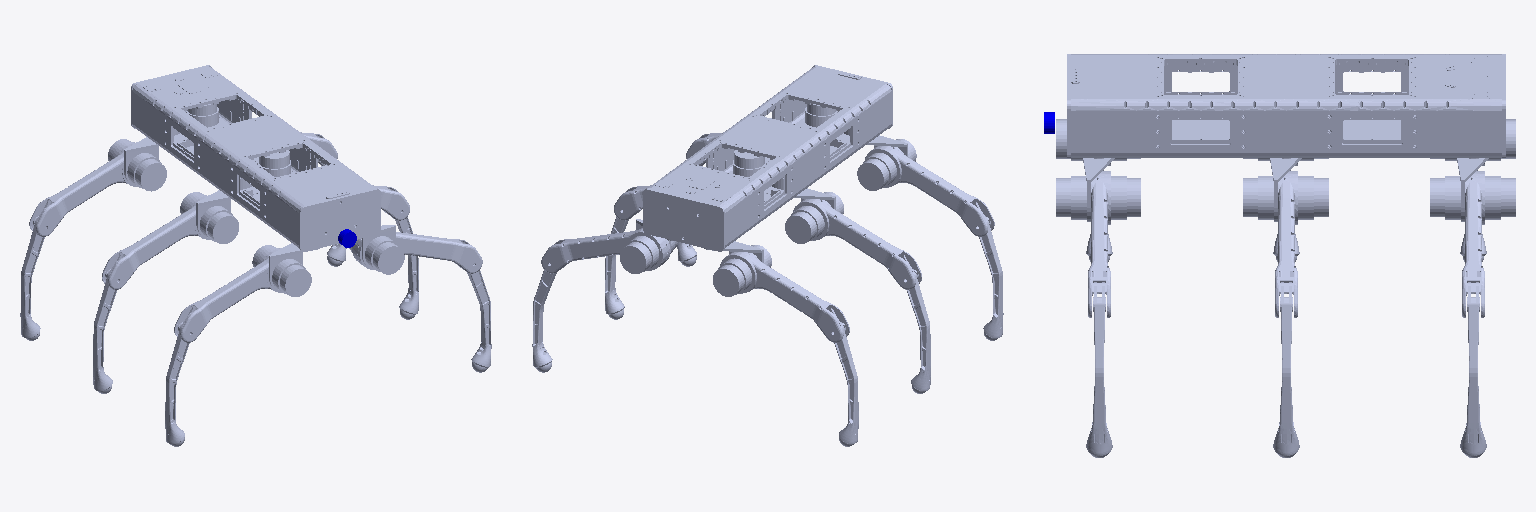
--- Facts derived from the render (not from the file) ---
The picture shows the robot from 3 angles, left to right: view 1: azimuth 30°, elevation 25°; view 2: azimuth 150°, elevation 25°; view 3: azimuth 270°, elevation 25°; orthographic projection.
Robot: robot_liuzu — 20 links, 19 joints (18 revolute, 1 fixed); root link base_link; default pose: all joints at 0.
Links seen in each view (by area): view 1: base_link, rf_link2, rb_link2, rm_link2, lf_link2, rm_link1, rb_link1, rf_link1, lf_link1, rm_link3, rf_link3, rb_link3 (+4 smaller); view 2: base_link, rf_link2, rm_link2, rb_link2, lb_link2, rm_link3, rb_link3, rf_link3, lb_link_3, lm_link3, lm_link2, lm_link1 (+1 smaller); view 3: base_link, lb_link2, lm_link2, lf_link2, lb_link_3, lm_link3, lf_link3, lb_link1, lm_link1, lf_link1.
Boxes of the visible links, x1,y1,x2,y2 form: base_link: (131,65,380,251); rf_link2: (174,245,282,342); rb_link2: (29,139,137,236); rm_link2: (102,192,209,289); lf_link2: (349,232,482,273); rm_link1: (196,160,252,243); rb_link1: (124,129,179,191); rf_link1: (269,243,319,296); lf_link1: (357,225,404,274); rm_link3: (93,261,118,393); rf_link3: (165,313,191,446); rb_link3: (20,208,46,340); base_link: (643,65,892,251); rf_link2: (857,146,994,236); rm_link2: (785,199,921,289); rb_link2: (713,252,849,342); lb_link2: (541,228,670,273); rm_link3: (905,261,930,393); rb_link3: (832,313,858,446); rf_link3: (977,208,1003,340); lb_link_3: (532,263,556,372); lm_link3: (605,210,628,319); lm_link2: (614,185,651,220); lm_link1: (733,150,766,176); base_link: (1067,54,1505,157); lb_link2: (1462,171,1515,317); lm_link2: (1275,171,1328,317); lf_link2: (1088,171,1140,317); lb_link_3: (1460,282,1486,457); lm_link3: (1273,282,1299,457); lf_link3: (1086,282,1112,457); lb_link1: (1430,158,1488,221); lm_link1: (1243,158,1301,221); lf_link1: (1056,158,1114,221).
Bounding box of the posed robot: 0.8736 × 0.8564 × 0.5732 m (x, y, z).
19 mesh visuals loaded from 19 distinct referenced files (19 binary STL).

URDF robot description (robot_liuzu):
<?xml version="1.0" encoding="utf-8"?>
<!-- This URDF was automatically created by SolidWorks to URDF Exporter! Originally created by Stephen Brawner ([email redacted]) 
     Commit Version: 1.6.0-4-g7f85cfe  Build Version: 1.6.7995.38578
     For more information, please see http://wiki.ros.org/sw_urdf_exporter -->
<robot
  name="robot_liuzu">
  <link
    name="base_link">
    <inertial>
      <origin
        xyz="1.4611E-06 0.00013754 0.051189"
        rpy="0 0 0" />
      <mass
        value="17.206" />
      <inertia
        ixx="1.1941"
        ixy="0.003952"
        ixz="9.5899E-05"
        iyy="1.1576"
        iyz="0.078153"
        izz="0.21746" />
    </inertial>
    <visual>
      <origin
        xyz="0 0 0"
        rpy="0 0 0" />
      <geometry>
        <mesh
          filename="package://robot_liuzu/meshes/base_link.STL" />
      </geometry>
      <material
        name="">
        <color
          rgba="0.79216 0.81961 0.93333 1" />
      </material>
    </visual>
    <collision>
      <origin
        xyz="0 0 0"
        rpy="0 0 0" />
      <geometry>
        <mesh
          filename="package://robot_liuzu/meshes/base_link.STL" />
      </geometry>
    </collision>
  </link>
  <link
    name="lb_link1">
    <inertial>
      <origin
        xyz="-0.038541 0.022331 -0.054879"
        rpy="0 0 0" />
      <mass
        value="2.478" />
      <inertia
        ixx="0.017127"
        ixy="-0.004201"
        ixz="0.009585"
        iyy="0.021963"
        iyz="-0.0056509"
        izz="0.011444" />
    </inertial>
    <visual>
      <origin
        xyz="0 0 0"
        rpy="0 0 0" />
      <geometry>
        <mesh
          filename="package://robot_liuzu/meshes/lb_link1.STL" />
      </geometry>
      <material
        name="">
        <color
          rgba="0.79216 0.81961 0.93333 1" />
      </material>
    </visual>
    <collision>
      <origin
        xyz="0 0 0"
        rpy="0 0 0" />
      <geometry>
        <mesh
          filename="package://robot_liuzu/meshes/lb_link1.STL" />
      </geometry>
    </collision>
  </link>
  <joint
    name="body_lb"
    type="revolute">
    <origin
      xyz="0.0499999999999999 0.34 -0.021"
      rpy="0 0 0" />
    <parent
      link="base_link" />
    <child
      link="lb_link1" />
    <axis
      xyz="0 0 -1" />
    <limit
      lower="-1.57"
      upper="1.57"
      effort="0"
      velocity="0" />
  </joint>
  <link
    name="lb_link2">
    <inertial>
      <origin
        xyz="0.033669 -0.033086 -0.002815"
        rpy="0 0 0" />
      <mass
        value="1.658" />
      <inertia
        ixx="0.0034925"
        ixy="-1.7485E-05"
        ixz="-0.000732"
        iyy="0.013323"
        iyz="2.067E-06"
        izz="0.015288" />
    </inertial>
    <visual>
      <origin
        xyz="0 0 0"
        rpy="0 0 0" />
      <geometry>
        <mesh
          filename="package://robot_liuzu/meshes/lb_link2.STL" />
      </geometry>
      <material
        name="">
        <color
          rgba="0.79216 0.81961 0.93333 1" />
      </material>
    </visual>
    <collision>
      <origin
        xyz="0 0 0"
        rpy="0 0 0" />
      <geometry>
        <mesh
          filename="package://robot_liuzu/meshes/lb_link2.STL" />
      </geometry>
    </collision>
  </link>
  <joint
    name="thigh_lb"
    type="revolute">
    <origin
      xyz="0.075728 0.0068868 -0.05"
      rpy="0 0 0" />
    <parent
      link="lb_link1" />
    <child
      link="lb_link2" />
    <axis
      xyz="0 -1 0" />
    <limit
      lower="-1.57"
      upper="1.57"
      effort="0"
      velocity="0" />
  </joint>
  <link
    name="lb_link_3">
    <inertial>
      <origin
        xyz="-0.15658 0 -0.011782"
        rpy="0 0 0" />
      <mass
        value="0.331" />
      <inertia
        ixx="0.00011902"
        ixy="5E-09"
        ixz="0.00064146"
        iyy="0.011147"
        iyz="1E-09"
        izz="0.011069" />
    </inertial>
    <visual>
      <origin
        xyz="0 0 0"
        rpy="0 0 0" />
      <geometry>
        <mesh
          filename="package://robot_liuzu/meshes/lb_link_3.STL" />
      </geometry>
      <material
        name="">
        <color
          rgba="0.79216 0.81961 0.93333 1" />
      </material>
    </visual>
    <collision>
      <origin
        xyz="0 0 0"
        rpy="0 0 0" />
      <geometry>
        <mesh
          filename="package://robot_liuzu/meshes/lb_link_3.STL" />
      </geometry>
    </collision>
  </link>
  <joint
    name="shank_lb"
    type="revolute">
    <origin
      xyz="0.25869 -0.0068868 -0.094056"
      rpy="0 0 0" />
    <parent
      link="lb_link2" />
    <child
      link="lb_link_3" />
    <axis
      xyz="0 -1 0" />
    <limit
      lower="-1.57"
      upper="1.57"
      effort="0"
      velocity="0" />
  </joint>
  <link
    name="lm_link1">
    <inertial>
      <origin
        xyz="-0.038541 0.022331 -0.054879"
        rpy="0 0 0" />
      <mass
        value="2.478" />
      <inertia
        ixx="0.017127"
        ixy="-0.004201"
        ixz="0.009585"
        iyy="0.021963"
        iyz="-0.0056509"
        izz="0.011444" />
    </inertial>
    <visual>
      <origin
        xyz="0 0 0"
        rpy="0 0 0" />
      <geometry>
        <mesh
          filename="package://robot_liuzu/meshes/lm_link1.STL" />
      </geometry>
      <material
        name="">
        <color
          rgba="0.79216 0.81961 0.93333 1" />
      </material>
    </visual>
    <collision>
      <origin
        xyz="0 0 0"
        rpy="0 0 0" />
      <geometry>
        <mesh
          filename="package://robot_liuzu/meshes/lm_link1.STL" />
      </geometry>
    </collision>
  </link>
  <joint
    name="body_lm"
    type="revolute">
    <origin
      xyz="0.0499999999999999 0 -0.021"
      rpy="0 0 0" />
    <parent
      link="base_link" />
    <child
      link="lm_link1" />
    <axis
      xyz="0 0 -1" />
    <limit
      lower="-1.57"
      upper="1.57"
      effort="0"
      velocity="0" />
  </joint>
  <link
    name="lm_link2">
    <inertial>
      <origin
        xyz="0.033669 -0.033086 -0.002815"
        rpy="0 0 0" />
      <mass
        value="1.658" />
      <inertia
        ixx="0.0034925"
        ixy="-1.7485E-05"
        ixz="-0.000732"
        iyy="0.013323"
        iyz="2.067E-06"
        izz="0.015288" />
    </inertial>
    <visual>
      <origin
        xyz="0 0 0"
        rpy="0 0 0" />
      <geometry>
        <mesh
          filename="package://robot_liuzu/meshes/lm_link2.STL" />
      </geometry>
      <material
        name="">
        <color
          rgba="0.79216 0.81961 0.93333 1" />
      </material>
    </visual>
    <collision>
      <origin
        xyz="0 0 0"
        rpy="0 0 0" />
      <geometry>
        <mesh
          filename="package://robot_liuzu/meshes/lm_link2.STL" />
      </geometry>
    </collision>
  </link>
  <joint
    name="thigh_lm"
    type="revolute">
    <origin
      xyz="0.076 0 -0.05"
      rpy="0 0 0" />
    <parent
      link="lm_link1" />
    <child
      link="lm_link2" />
    <axis
      xyz="0 -1 0" />
    <limit
      lower="-1.57"
      upper="1.57"
      effort="0"
      velocity="0" />
  </joint>
  <link
    name="lm_link3">
    <inertial>
      <origin
        xyz="-0.15658 0 -0.011782"
        rpy="0 0 0" />
      <mass
        value="0.331" />
      <inertia
        ixx="0.00011902"
        ixy="5E-09"
        ixz="0.00064146"
        iyy="0.011147"
        iyz="1E-09"
        izz="0.011069" />
    </inertial>
    <visual>
      <origin
        xyz="0 0 0"
        rpy="0 0 0" />
      <geometry>
        <mesh
          filename="package://robot_liuzu/meshes/lm_link3.STL" />
      </geometry>
      <material
        name="">
        <color
          rgba="0.79216 0.81961 0.93333 1" />
      </material>
    </visual>
    <collision>
      <origin
        xyz="0 0 0"
        rpy="0 0 0" />
      <geometry>
        <mesh
          filename="package://robot_liuzu/meshes/lm_link3.STL" />
      </geometry>
    </collision>
  </link>
  <joint
    name="shank_lm"
    type="revolute">
    <origin
      xyz="0.258415470716125 0 -0.094055539414559"
      rpy="0 0 0" />
    <parent
      link="lm_link2" />
    <child
      link="lm_link3" />
    <axis
      xyz="0 -1 0" />
    <limit
      lower="-1.57"
      upper="1.57"
      effort="0"
      velocity="0" />
  </joint>
  <link
    name="lf_link1">
    <inertial>
      <origin
        xyz="-0.038541 0.022331 -0.054879"
        rpy="0 0 0" />
      <mass
        value="2.478" />
      <inertia
        ixx="0.017127"
        ixy="-0.004201"
        ixz="0.009585"
        iyy="0.021963"
        iyz="-0.0056509"
        izz="0.011444" />
    </inertial>
    <visual>
      <origin
        xyz="0 0 0"
        rpy="0 0 0" />
      <geometry>
        <mesh
          filename="package://robot_liuzu/meshes/lf_link1.STL" />
      </geometry>
      <material
        name="">
        <color
          rgba="0.79216 0.81961 0.93333 1" />
      </material>
    </visual>
    <collision>
      <origin
        xyz="0 0 0"
        rpy="0 0 0" />
      <geometry>
        <mesh
          filename="package://robot_liuzu/meshes/lf_link1.STL" />
      </geometry>
    </collision>
  </link>
  <joint
    name="body_lf"
    type="revolute">
    <origin
      xyz="0.05 -0.34 -0.021"
      rpy="0 0 0" />
    <parent
      link="base_link" />
    <child
      link="lf_link1" />
    <axis
      xyz="0 0 -1" />
    <limit
      lower="-1.57"
      upper="1.57"
      effort="0"
      velocity="0" />
  </joint>
  <link
    name="lf_link2">
    <inertial>
      <origin
        xyz="0.033669 -0.033086 -0.002815"
        rpy="0 0 0" />
      <mass
        value="1.658" />
      <inertia
        ixx="0.0034925"
        ixy="-1.7485E-05"
        ixz="-0.000732"
        iyy="0.013323"
        iyz="2.067E-06"
        izz="0.015288" />
    </inertial>
    <visual>
      <origin
        xyz="0 0 0"
        rpy="0 0 0" />
      <geometry>
        <mesh
          filename="package://robot_liuzu/meshes/lf_link2.STL" />
      </geometry>
      <material
        name="">
        <color
          rgba="0.79216 0.81961 0.93333 1" />
      </material>
    </visual>
    <collision>
      <origin
        xyz="0 0 0"
        rpy="0 0 0" />
      <geometry>
        <mesh
          filename="package://robot_liuzu/meshes/lf_link2.STL" />
      </geometry>
    </collision>
  </link>
  <joint
    name="thigh_lf"
    type="revolute">
    <origin
      xyz="0.076 0 -0.05"
      rpy="0 0 0" />
    <parent
      link="lf_link1" />
    <child
      link="lf_link2" />
    <axis
      xyz="0 -1 0" />
    <limit
      lower="-1.57"
      upper="1.57"
      effort="0"
      velocity="0" />
  </joint>
  <link
    name="lf_link3">
    <inertial>
      <origin
        xyz="-0.15658 0 -0.011782"
        rpy="0 0 0" />
      <mass
        value="0.331" />
      <inertia
        ixx="0.00011902"
        ixy="5E-09"
        ixz="0.00064146"
        iyy="0.011147"
        iyz="1E-09"
        izz="0.011069" />
    </inertial>
    <visual>
      <origin
        xyz="0 0 0"
        rpy="0 0 0" />
      <geometry>
        <mesh
          filename="package://robot_liuzu/meshes/lf_link3.STL" />
      </geometry>
      <material
        name="">
        <color
          rgba="0.79216 0.81961 0.93333 1" />
      </material>
    </visual>
    <collision>
      <origin
        xyz="0 0 0"
        rpy="0 0 0" />
      <geometry>
        <mesh
          filename="package://robot_liuzu/meshes/lf_link3.STL" />
      </geometry>
    </collision>
  </link>
  <joint
    name="shank_lf"
    type="revolute">
    <origin
      xyz="0.258415470716125 0 -0.094055539414559"
      rpy="0 0 0" />
    <parent
      link="lf_link2" />
    <child
      link="lf_link3" />
    <axis
      xyz="0 -1 0" />
    <limit
      lower="-1.57"
      upper="1.57"
      effort="0"
      velocity="0" />
  </joint>
  <link
    name="rf_link1">
    <inertial>
      <origin
        xyz="0.022331 -0.038541 -0.054879"
        rpy="0 0 0" />
      <mass
        value="2.478" />
      <inertia
        ixx="0.021963"
        ixy="-0.0042012"
        ixz="-0.005651"
        iyy="0.017127"
        iyz="0.009585"
        izz="0.011444" />
    </inertial>
    <visual>
      <origin
        xyz="0 0 0"
        rpy="0 0 0" />
      <geometry>
        <mesh
          filename="package://robot_liuzu/meshes/rf_link1.STL" />
      </geometry>
      <material
        name="">
        <color
          rgba="0.79216 0.81961 0.93333 1" />
      </material>
    </visual>
    <collision>
      <origin
        xyz="0 0 0"
        rpy="0 0 0" />
      <geometry>
        <mesh
          filename="package://robot_liuzu/meshes/rf_link1.STL" />
      </geometry>
    </collision>
  </link>
  <joint
    name="body_rf"
    type="revolute">
    <origin
      xyz="-0.05 -0.34 -0.021"
      rpy="0 0 0" />
    <parent
      link="base_link" />
    <child
      link="rf_link1" />
    <axis
      xyz="0 0 1" />
    <limit
      lower="-1.57"
      upper="1.57"
      effort="0"
      velocity="0" />
  </joint>
  <link
    name="rf_link2">
    <inertial>
      <origin
        xyz="0.033159 0.0029006 -0.019475"
        rpy="0 0 0" />
      <mass
        value="1.658" />
      <inertia
        ixx="0.0025821"
        ixy="0.0007783"
        ixz="-0.0027886"
        iyy="0.014124"
        iyz="0.00024407"
        izz="0.013116" />
    </inertial>
    <visual>
      <origin
        xyz="0 0 0"
        rpy="0 0 0" />
      <geometry>
        <mesh
          filename="package://robot_liuzu/meshes/rf_link2.STL" />
      </geometry>
      <material
        name="">
        <color
          rgba="0.79216 0.81961 0.93333 1" />
      </material>
    </visual>
    <collision>
      <origin
        xyz="0 0 0"
        rpy="0 0 0" />
      <geometry>
        <mesh
          filename="package://robot_liuzu/meshes/rf_link2.STL" />
      </geometry>
    </collision>
  </link>
  <joint
    name="thigh_rf"
    type="revolute">
    <origin
      xyz="-0.076 0 -0.05"
      rpy="0 0 0" />
    <parent
      link="rf_link1" />
    <child
      link="rf_link2" />
    <axis
      xyz="0 1 0" />
    <limit
      lower="-1.57"
      upper="1.57"
      effort="0"
      velocity="0" />
  </joint>
  <link
    name="rf_link3">
    <inertial>
      <origin
        xyz="-0.15658 0 -0.011782"
        rpy="0 0 0" />
      <mass
        value="0.331" />
      <inertia
        ixx="0.00011902"
        ixy="5E-09"
        ixz="0.00064146"
        iyy="0.011147"
        iyz="1E-09"
        izz="0.011069" />
    </inertial>
    <visual>
      <origin
        xyz="0 0 0"
        rpy="0 0 0" />
      <geometry>
        <mesh
          filename="package://robot_liuzu/meshes/rf_link3.STL" />
      </geometry>
      <material
        name="">
        <color
          rgba="0.79216 0.81961 0.93333 1" />
      </material>
    </visual>
    <collision>
      <origin
        xyz="0 0 0"
        rpy="0 0 0" />
      <geometry>
        <mesh
          filename="package://robot_liuzu/meshes/rf_link3.STL" />
      </geometry>
    </collision>
  </link>
  <joint
    name="shank_rf"
    type="revolute">
    <origin
      xyz="-0.258415470716125 0 -0.0940555394145592"
      rpy="0 0 0" />
    <parent
      link="rf_link2" />
    <child
      link="rf_link3" />
    <axis
      xyz="0 1 0" />
    <limit
      lower="-1.57"
      upper="1.57"
      effort="0"
      velocity="0" />
  </joint>
  <link
    name="rm_link1">
    <inertial>
      <origin
        xyz="0.022331 -0.038541 -0.054879"
        rpy="0 0 0" />
      <mass
        value="2.478" />
      <inertia
        ixx="0.021963"
        ixy="-0.0042012"
        ixz="-0.005651"
        iyy="0.017127"
        iyz="0.009585"
        izz="0.011444" />
    </inertial>
    <visual>
      <origin
        xyz="0 0 0"
        rpy="0 0 0" />
      <geometry>
        <mesh
          filename="package://robot_liuzu/meshes/rm_link1.STL" />
      </geometry>
      <material
        name="">
        <color
          rgba="0.79216 0.81961 0.93333 1" />
      </material>
    </visual>
    <collision>
      <origin
        xyz="0 0 0"
        rpy="0 0 0" />
      <geometry>
        <mesh
          filename="package://robot_liuzu/meshes/rm_link1.STL" />
      </geometry>
    </collision>
  </link>
  <joint
    name="body_rm"
    type="revolute">
    <origin
      xyz="-0.05 0 -0.021"
      rpy="0 0 0" />
    <parent
      link="base_link" />
    <child
      link="rm_link1" />
    <axis
      xyz="0 0 1" />
    <limit
      lower="-1.57"
      upper="1.57"
      effort="0"
      velocity="0" />
  </joint>
  <link
    name="rm_link2">
    <inertial>
      <origin
        xyz="0.033159 0.0029006 -0.019475"
        rpy="0 0 0" />
      <mass
        value="1.658" />
      <inertia
        ixx="0.0025821"
        ixy="0.0007783"
        ixz="-0.0027886"
        iyy="0.014124"
        iyz="0.00024407"
        izz="0.013116" />
    </inertial>
    <visual>
      <origin
        xyz="0 0 0"
        rpy="0 0 0" />
      <geometry>
        <mesh
          filename="package://robot_liuzu/meshes/rm_link2.STL" />
      </geometry>
      <material
        name="">
        <color
          rgba="0.79216 0.81961 0.93333 1" />
      </material>
    </visual>
    <collision>
      <origin
        xyz="0 0 0"
        rpy="0 0 0" />
      <geometry>
        <mesh
          filename="package://robot_liuzu/meshes/rm_link2.STL" />
      </geometry>
    </collision>
  </link>
  <joint
    name="thigh_rm"
    type="revolute">
    <origin
      xyz="-0.076 0 -0.05"
      rpy="0 0 0" />
    <parent
      link="rm_link1" />
    <child
      link="rm_link2" />
    <axis
      xyz="0 1 0" />
    <limit
      lower="-1.57"
      upper="1.57"
      effort="0"
      velocity="0" />
  </joint>
  <link
    name="rm_link3">
    <inertial>
      <origin
        xyz="-0.15658 0 -0.011782"
        rpy="0 0 0" />
      <mass
        value="0.331" />
      <inertia
        ixx="0.00011902"
        ixy="5E-09"
        ixz="0.00064146"
        iyy="0.011147"
        iyz="1E-09"
        izz="0.011069" />
    </inertial>
    <visual>
      <origin
        xyz="0 0 0"
        rpy="0 0 0" />
      <geometry>
        <mesh
          filename="package://robot_liuzu/meshes/rm_link3.STL" />
      </geometry>
      <material
        name="">
        <color
          rgba="0.79216 0.81961 0.93333 1" />
      </material>
    </visual>
    <collision>
      <origin
        xyz="0 0 0"
        rpy="0 0 0" />
      <geometry>
        <mesh
          filename="package://robot_liuzu/meshes/rm_link3.STL" />
      </geometry>
    </collision>
  </link>
  <joint
    name="shank_rm"
    type="revolute">
    <origin
      xyz="-0.258415470716125 0 -0.094055539414557"
      rpy="0 0 0" />
    <parent
      link="rm_link2" />
    <child
      link="rm_link3" />
    <axis
      xyz="0 1 0" />
    <limit
      lower="-1.57"
      upper="1.57"
      effort="0"
      velocity="0" />
  </joint>
  <link
    name="rb_link1">
    <inertial>
      <origin
        xyz="0.022331 -0.038541 -0.054879"
        rpy="0 0 0" />
      <mass
        value="2.478" />
      <inertia
        ixx="0.021963"
        ixy="-0.0042012"
        ixz="-0.005651"
        iyy="0.017127"
        iyz="0.009585"
        izz="0.011444" />
    </inertial>
    <visual>
      <origin
        xyz="0 0 0"
        rpy="0 0 0" />
      <geometry>
        <mesh
          filename="package://robot_liuzu/meshes/rb_link1.STL" />
      </geometry>
      <material
        name="">
        <color
          rgba="0.79216 0.81961 0.93333 1" />
      </material>
    </visual>
    <collision>
      <origin
        xyz="0 0 0"
        rpy="0 0 0" />
      <geometry>
        <mesh
          filename="package://robot_liuzu/meshes/rb_link1.STL" />
      </geometry>
    </collision>
  </link>
  <joint
    name="body_rb"
    type="revolute">
    <origin
      xyz="-0.05 0.34 -0.021"
      rpy="0 0 0" />
    <parent
      link="base_link" />
    <child
      link="rb_link1" />
    <axis
      xyz="0 0 1" />
    <limit
      lower="-1.57"
      upper="1.57"
      effort="0"
      velocity="0" />
  </joint>
  <link
    name="rb_link2">
    <inertial>
      <origin
        xyz="0.033159 0.0029006 -0.019475"
        rpy="0 0 0" />
      <mass
        value="1.658" />
      <inertia
        ixx="0.0025821"
        ixy="0.0007783"
        ixz="-0.0027886"
        iyy="0.014124"
        iyz="0.00024407"
        izz="0.013116" />
    </inertial>
    <visual>
      <origin
        xyz="0 0 0"
        rpy="0 0 0" />
      <geometry>
        <mesh
          filename="package://robot_liuzu/meshes/rb_link2.STL" />
      </geometry>
      <material
        name="">
        <color
          rgba="0.79216 0.81961 0.93333 1" />
      </material>
    </visual>
    <collision>
      <origin
        xyz="0 0 0"
        rpy="0 0 0" />
      <geometry>
        <mesh
          filename="package://robot_liuzu/meshes/rb_link2.STL" />
      </geometry>
    </collision>
  </link>
  <joint
    name="thigh_rb"
    type="revolute">
    <origin
      xyz="-0.076 0 -0.05"
      rpy="0 0 0" />
    <parent
      link="rb_link1" />
    <child
      link="rb_link2" />
    <axis
      xyz="0 1 0" />
    <limit
      lower="-1.57"
      upper="1.57"
      effort="0"
      velocity="0" />
  </joint>
  <link
    name="rb_link3">
    <inertial>
      <origin
        xyz="-0.15658 0 -0.011782"
        rpy="0 0 0" />
      <mass
        value="0.331" />
      <inertia
        ixx="0.00011902"
        ixy="5E-09"
        ixz="0.00064146"
        iyy="0.011147"
        iyz="1E-09"
        izz="0.011069" />
    </inertial>
    <visual>
      <origin
        xyz="0 0 0"
        rpy="0 0 0" />
      <geometry>
        <mesh
          filename="package://robot_liuzu/meshes/rb_link3.STL" />
      </geometry>
      <material
        name="">
        <color
          rgba="0.79216 0.81961 0.93333 1" />
      </material>
    </visual>
    <collision>
      <origin
        xyz="0 0 0"
        rpy="0 0 0" />
      <geometry>
        <mesh
          filename="package://robot_liuzu/meshes/rb_link3.STL" />
      </geometry>
    </collision>
  </link>
  <joint
    name="shank_rb"
    type="revolute">
    <origin
      xyz="-0.258415470716125 0 -0.0940555394145591"
      rpy="0 0 0" />
    <parent
      link="rb_link2" />
    <child
      link="rb_link3" />
    <axis
      xyz="0 1 0" />
    <limit
      lower="-1.57"
      upper="1.57"
      effort="0"
      velocity="0" />
  </joint>

  <joint name="ray_joint" type="fixed">
    <origin xyz="0 -0.43 0.02" rpy="1.5708 0 0"/>
    <parent link="base_link"/>
    <child link="lidar"/>  
  </joint>

  <link name="lidar">
    <inertial>
      <origin xyz="0 0 0" rpy="0 0 0" />
      <mass value="1E-09" />
      <inertia ixx="1E-09" ixy="1E-09" ixz="1E-09" iyy="1E-09" iyz="1E-09" izz="1E-09" />
    </inertial>
    <visual>
      <origin xyz="0 0 0" rpy="0 0 0" />
      <geometry>
        <cylinder radius="0.02" length="0.02"/>
      </geometry>
      <material name="Cyan">
        <color rgba="0 0 1 1" />
      </material>
    </visual>
    <collision>
      <origin xyz="0 0 0" rpy="0 0 0" />
      <geometry>
        <cylinder radius="0.02" length="0.02"/>
      </geometry>
    </collision>
  </link>


  <!-- <joint name="lf_tip_joint" type="fixed">
    <origin xyz="0.025 0 -0.29" rpy="0 0 0"/>
    <parent link="lf_link3"/>
    <child link="lf_foot_tip"/>  
  </joint>

  <link name="lf_foot_tip">
    <inertial>
      <origin xyz="0 0 0" rpy="0 0 0" />
      <mass value="1E-09" />
      <inertia ixx="1E-09" ixy="1E-09" ixz="1E-09" iyy="1E-09" iyz="1E-09" izz="1E-09" />
    </inertial>
    <visual>
      <origin xyz="0 0 0" rpy="0 0 0" />
      <geometry>
        <sphere radius="0.01"/>
      </geometry>
      <material name="Cyan">
        <color rgba="0 0 1 1" />
      </material>
    </visual>
  </link>

  <joint name="lm_tip_joint" type="fixed">
    <origin xyz="0.025 0 -0.29" rpy="0 0 0"/>
    <parent link="lm_link3"/>
    <child link="lm_foot_tip"/>  
  </joint>

  <link name="lm_foot_tip">
    <inertial>
      <origin xyz="0 0 0" rpy="0 0 0" />
      <mass value="1E-09" />
      <inertia ixx="1E-09" ixy="1E-09" ixz="1E-09" iyy="1E-09" iyz="1E-09" izz="1E-09" />
    </inertial>
    <visual>
      <origin xyz="0 0 0" rpy="0 0 0" />
      <geometry>
        <sphere radius="0.01"/>
      </geometry>
      <material name="Cyan">
        <color rgba="0 0 1 1" />
      </material>
    </visual>
  </link>

  <joint name="lb_tip_joint" type="fixed">
    <origin xyz="0.025 0 -0.29" rpy="0 0 0"/>
    <parent link="lb_link_3"/>
    <child link="lb_foot_tip"/>  
  </joint>

  <link name="lb_foot_tip">
    <inertial>
      <origin xyz="0 0 0" rpy="0 0 0" />
      <mass value="1E-09" />
      <inertia ixx="1E-09" ixy="1E-09" ixz="1E-09" iyy="1E-09" iyz="1E-09" izz="1E-09" />
    </inertial>
    <visual>
      <origin xyz="0 0 0" rpy="0 0 0" />
      <geometry>
        <sphere radius="0.01"/>
      </geometry>
      <material name="Cyan">
        <color rgba="0 0 1 1" />
      </material>
    </visual>
  </link>

  <joint name="rf_tip_joint" type="fixed">
    <origin xyz="-0.025 0 -0.29" rpy="0 0 0"/>
    <parent link="rf_link3"/>
    <child link="rf_foot_tip"/>  
  </joint>

  <link name="rf_foot_tip">
    <inertial>
      <origin xyz="0 0 0" rpy="0 0 0" />
      <mass value="1E-09" />
      <inertia ixx="1E-09" ixy="1E-09" ixz="1E-09" iyy="1E-09" iyz="1E-09" izz="1E-09" />
    </inertial>
    <visual>
      <origin xyz="0 0 0" rpy="0 0 0" />
      <geometry>
        <sphere radius="0.01"/>
      </geometry>
      <material name="Cyan">
        <color rgba="0 0 1 1" />
      </material>
    </visual>
  </link>

    <joint name="rm_tip_joint" type="fixed">
    <origin xyz="-0.025 0 -0.29" rpy="0 0 0"/>
    <parent link="rm_link3"/>
    <child link="rm_foot_tip"/>  
  </joint>

  <link name="rm_foot_tip">
    <inertial>
      <origin xyz="0 0 0" rpy="0 0 0" />
      <mass value="1E-09" />
      <inertia ixx="1E-09" ixy="1E-09" ixz="1E-09" iyy="1E-09" iyz="1E-09" izz="1E-09" />
    </inertial>
    <visual>
      <origin xyz="0 0 0" rpy="0 0 0" />
      <geometry>
        <sphere radius="0.01"/>
      </geometry>
      <material name="Cyan">
        <color rgba="0 0 1 1" />
      </material>
    </visual>
  </link>

    <joint name="rb_tip_joint" type="fixed">
    <origin xyz="-0.025 0 -0.29" rpy="0 0 0"/>
    <parent link="rb_link3"/>
    <child link="rb_foot_tip"/>  
  </joint>

  <link name="rb_foot_tip">
    <inertial>
      <origin xyz="0 0 0" rpy="0 0 0" />
      <mass value="1E-09" />
      <inertia ixx="1E-09" ixy="1E-09" ixz="1E-09" iyy="1E-09" iyz="1E-09" izz="1E-09" />
    </inertial>
    <visual>
      <origin xyz="0 0 0" rpy="0 0 0" />
      <geometry>
        <sphere radius="0.01"/>
      </geometry>
      <material name="Cyan">
        <color rgba="0 0 1 1" />
      </material>
    </visual>
  </link> -->
</robot>
